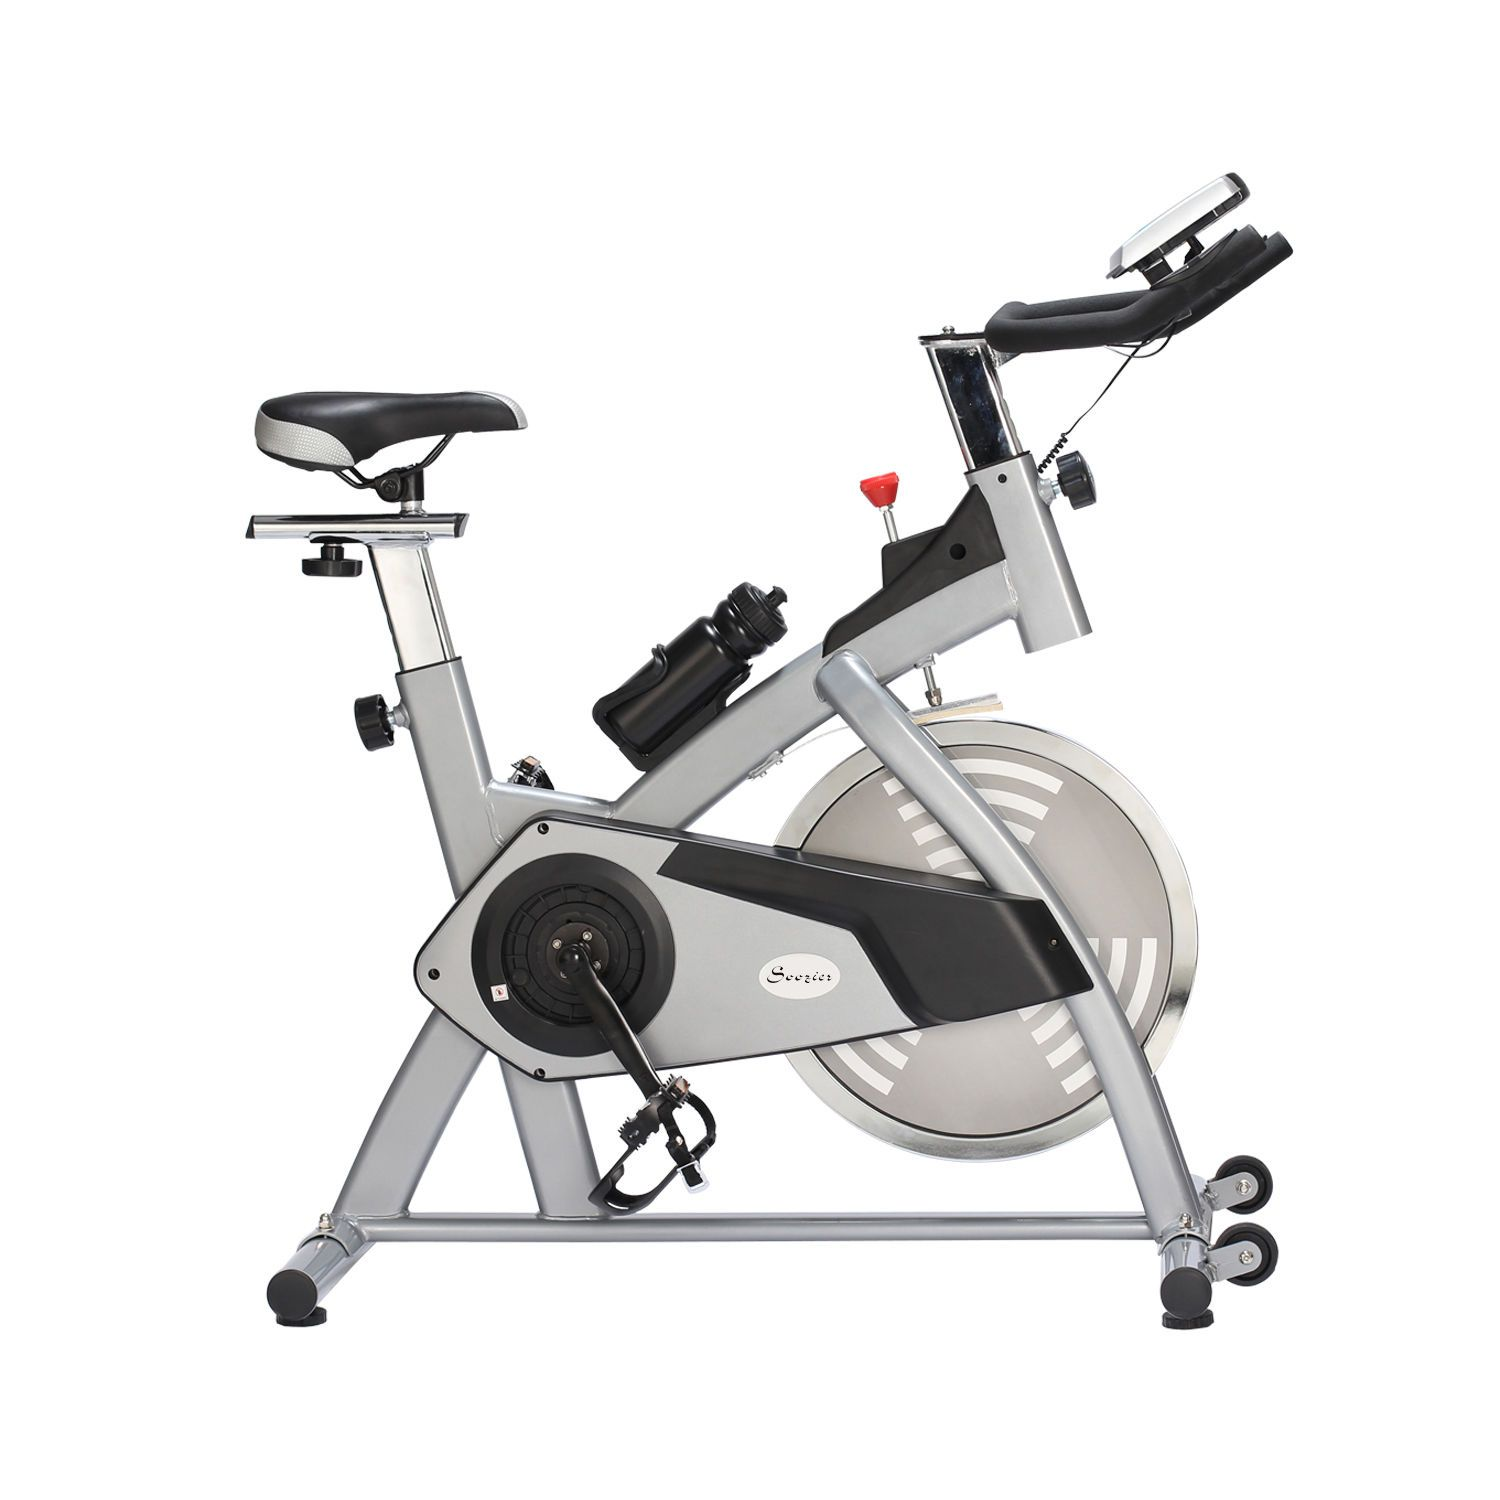gym_bike: (185, 166, 1326, 1343)
